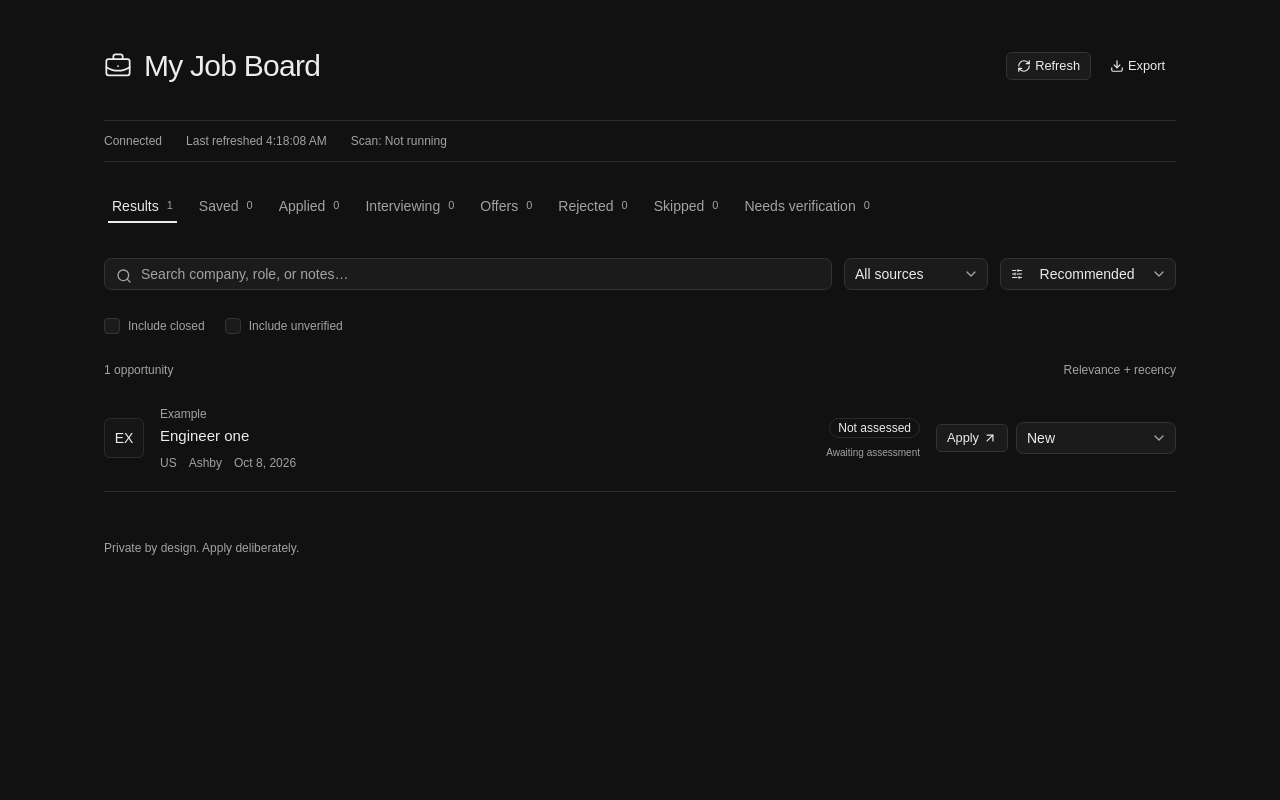
shows each fit check in plain language
The width and height of the screenshot is (1280, 800).
Click the button "Engineer one" at (205, 436), box [160,426,249,447]
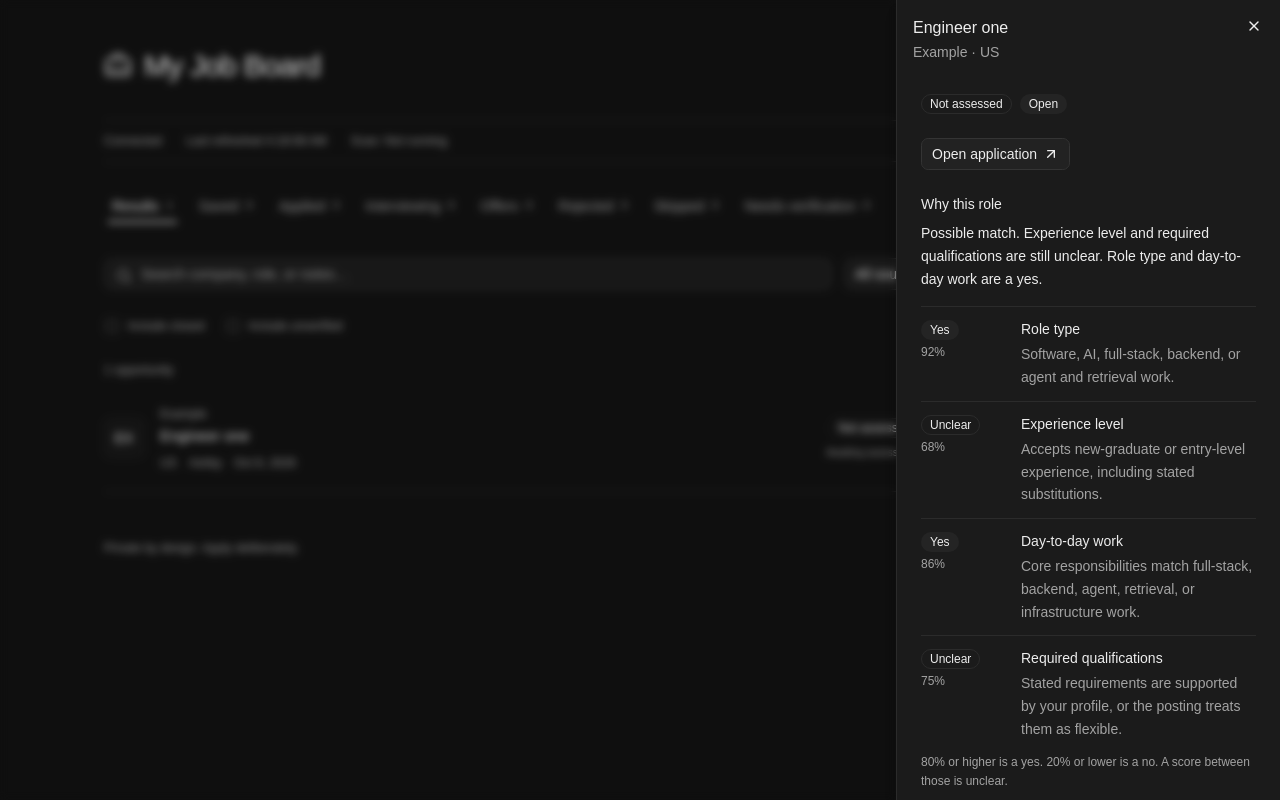
Now the text "Possible match. Experience level and required qualifications are still unclear. Role type and day-to-day work are a yes." is shown, box [921,225,1241,286]
Now the text "Experience level" is shown, box [1021,416,1124,432]
Now the text "68%" is shown, box [921,440,945,454]
